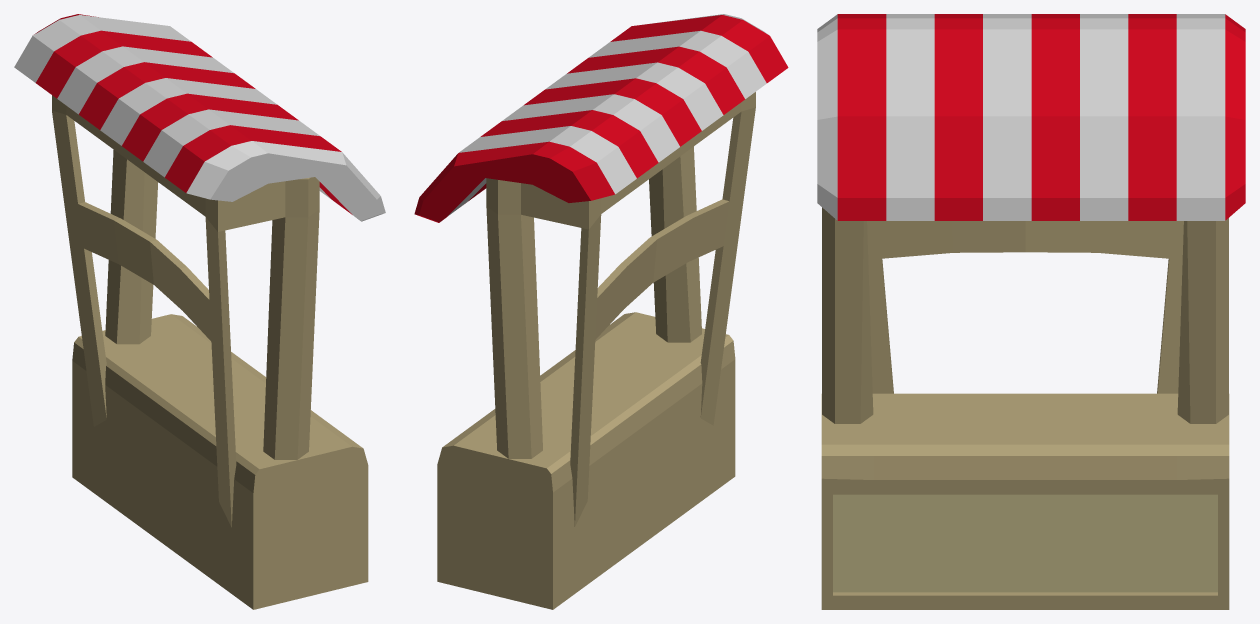
File: kraampje.fbx
The picture shows the model from 3 angles, left to right: view 1: azimuth 30°, elevation 25°; view 2: azimuth 150°, elevation 25°; view 3: azimuth 270°, elevation 25°; orthographic projection. The views are drawn at different scales.
Parts seen in each view (by area): view 1: Kraampje; view 2: Kraampje; view 3: Kraampje.
Boxes of the visible parts, x1,y1,x2,y2 form: Kraampje: (14,14,385,609); Kraampje: (414,14,788,609); Kraampje: (817,14,1245,609).
Size of the model in its own units: 1.29 by 2.84 by 2.12.
